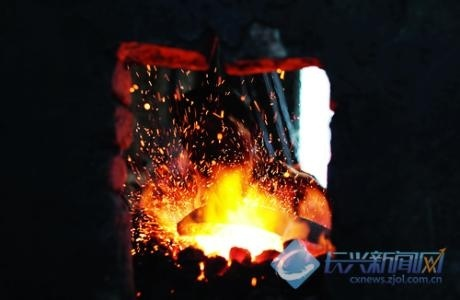fire: (139, 162, 291, 262)
